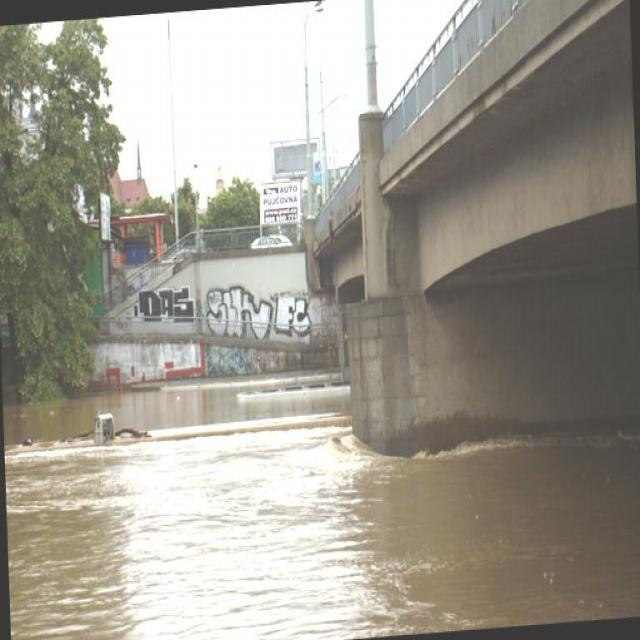flood: (2, 337, 639, 639)
